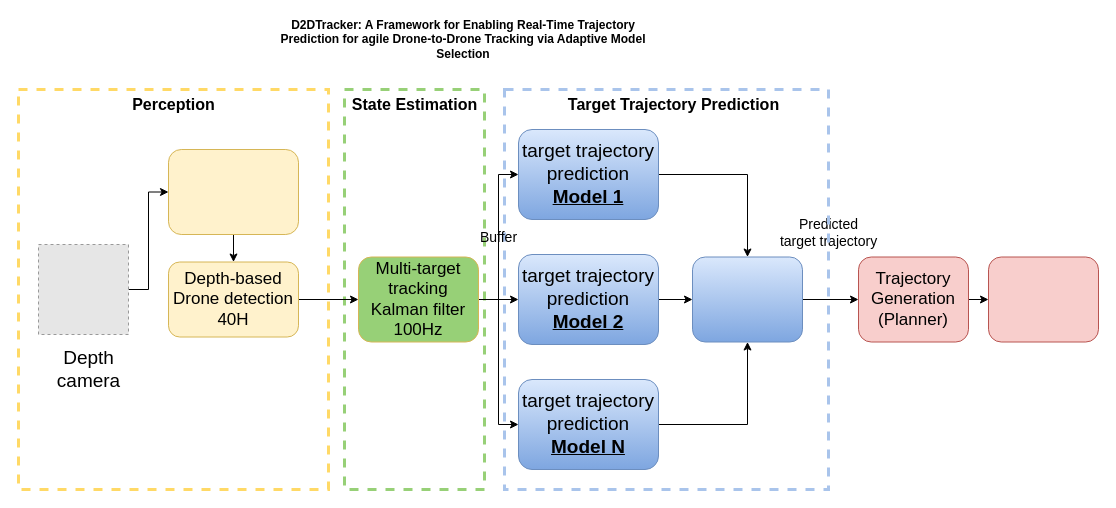
Image size: 1116x508. Some labels were removed from this diagram. Grey dashed boxes stand in for pictures. Each missing label, with the centre of its shape:
"Best model selector" goes at point 747,299.
"Deep-learning-based Drone detection 15Hz" goes at point 233,191.
"Trajectory Tracker (Controller)" goes at point 1043,299.
